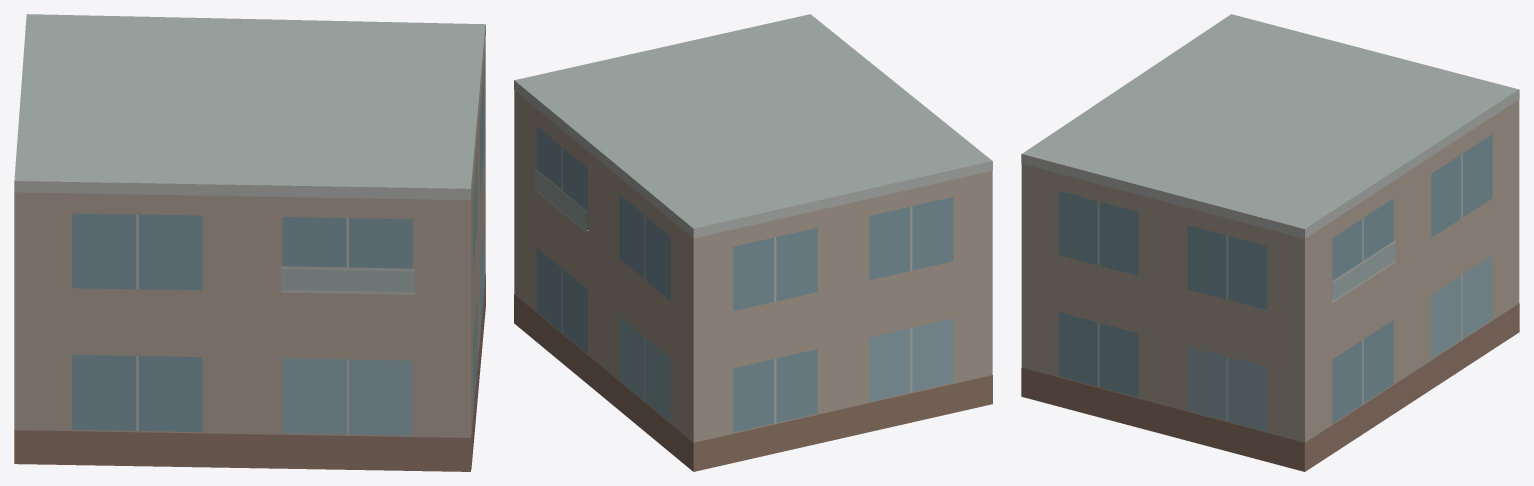
The model's file is survey-upis-32848445.glb.
3 renders of one model, left to right at view 1: azimuth 30°, elevation 25°; view 2: azimuth 150°, elevation 25°; view 3: azimuth 270°, elevation 25°, orthographic. The views are drawn at different scales.
Visible parts, largest first — view 1: survey-upis-32848445.tmp; view 2: survey-upis-32848445.tmp; view 3: survey-upis-32848445.tmp.
Boxes of the visible parts, x1,y1,x2,y2 form: survey-upis-32848445.tmp: [14, 14, 485, 471]; survey-upis-32848445.tmp: [514, 14, 992, 471]; survey-upis-32848445.tmp: [1021, 14, 1519, 471].
Size of the model in its own units: 11.61 by 6.1 by 11.35.
